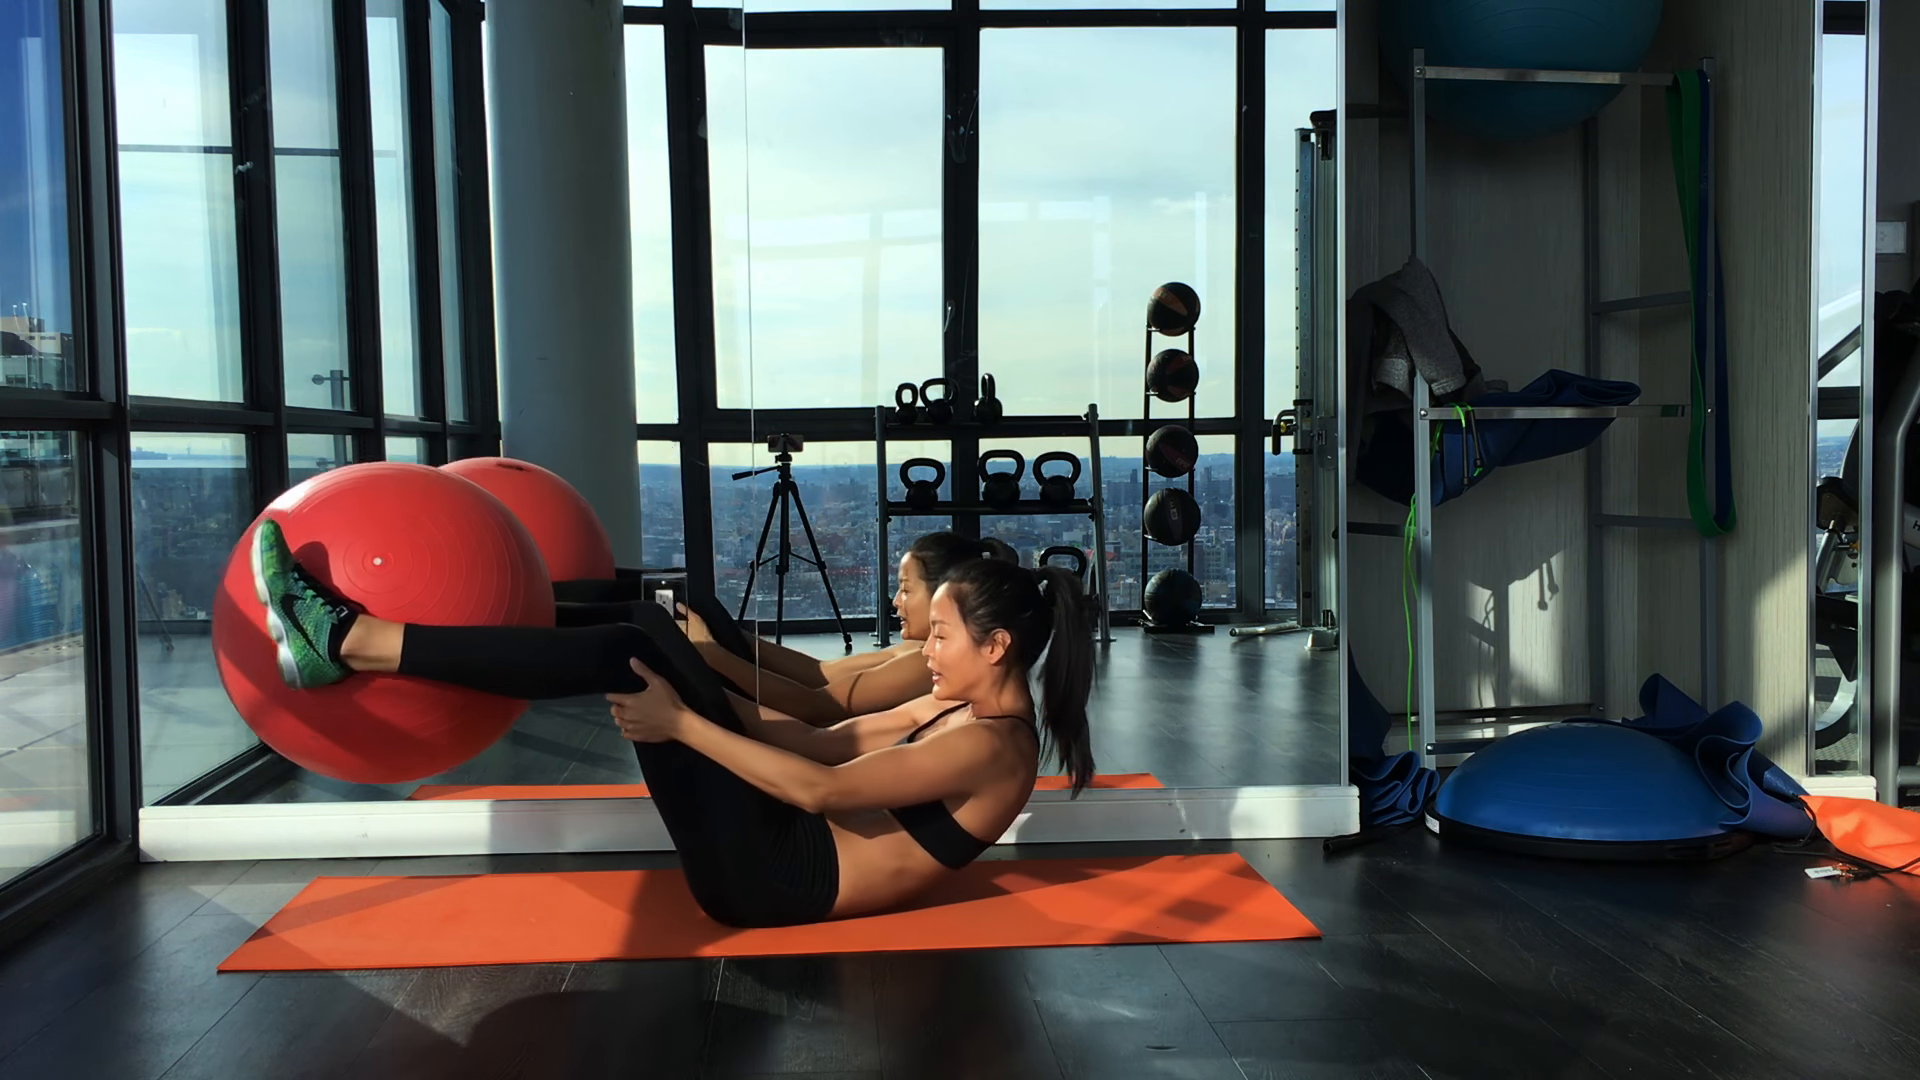yogaball: (208, 462, 560, 793)
